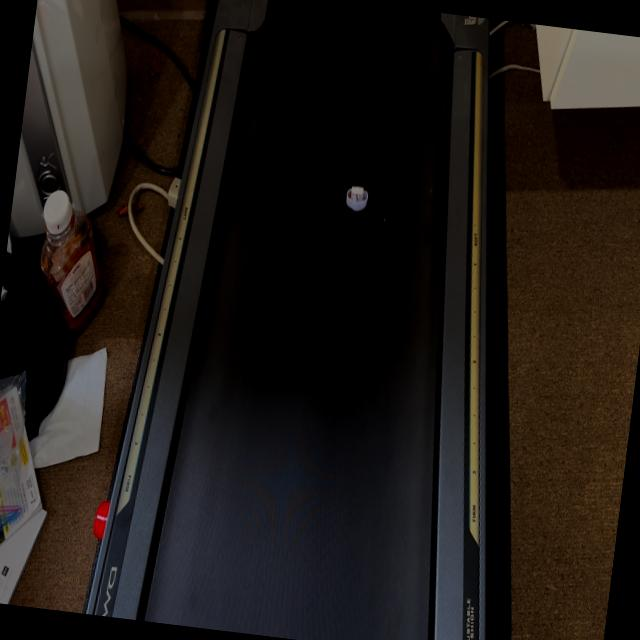Trash: (342, 183, 370, 214)
